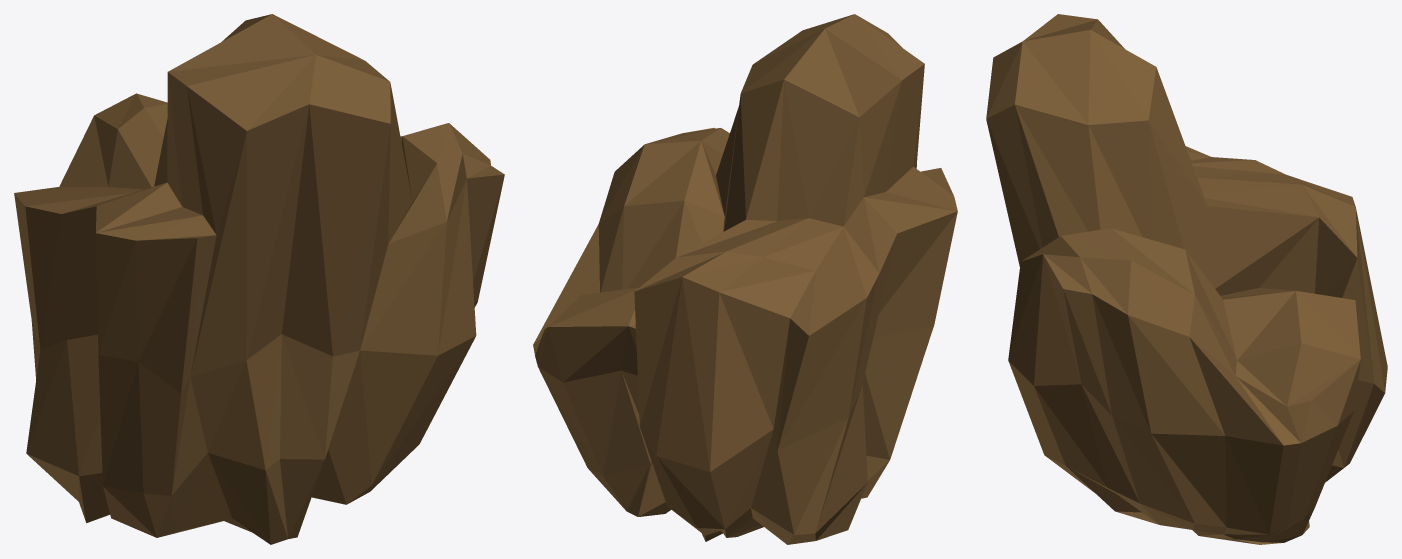
Rendered from rock2.fbx.
3 renders of one model, left to right at view 1: azimuth 30°, elevation 25°; view 2: azimuth 150°, elevation 25°; view 3: azimuth 270°, elevation 25°, orthographic. The views are drawn at different scales.
Visible parts, largest first — view 1: Cube.001; view 2: Cube.001; view 3: Cube.001.
Boxes of the visible parts, bbox=[...] form: Cube.001: bbox=[14, 14, 504, 544]; Cube.001: bbox=[533, 14, 957, 544]; Cube.001: bbox=[986, 14, 1387, 544].
Bounding box in the file's own units: 2.31 × 2.94 × 2.27.
